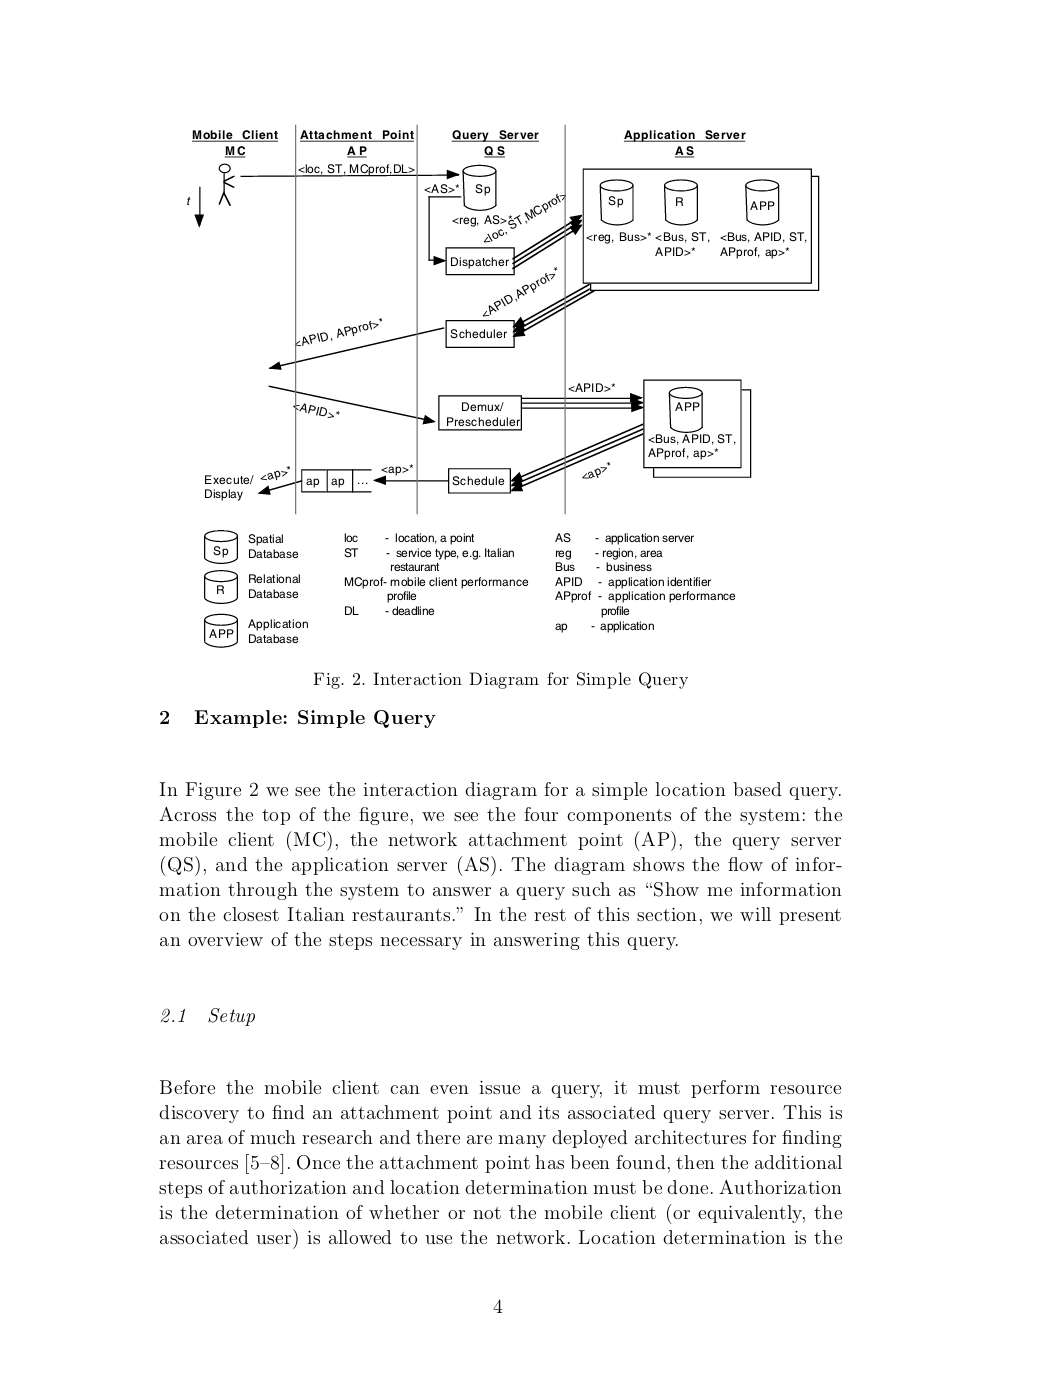figure: (187, 123, 819, 515), (204, 529, 734, 647)
